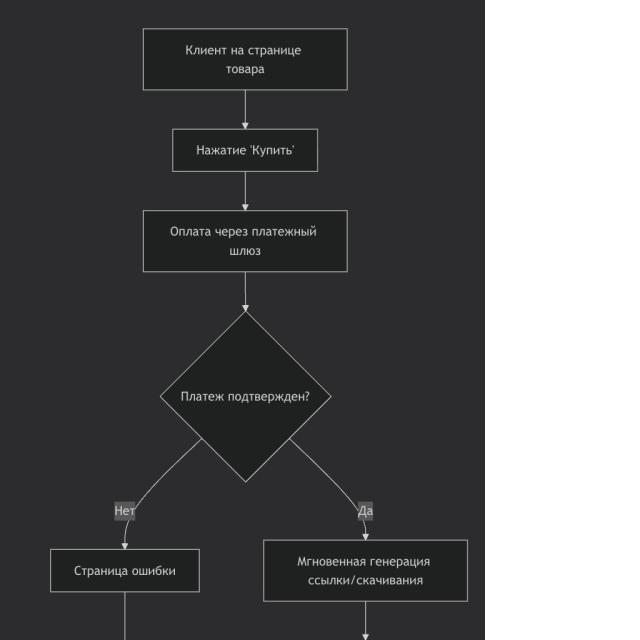arrow: (289, 439, 358, 511), (133, 438, 202, 509), (242, 90, 248, 129), (242, 172, 248, 211), (243, 272, 248, 311), (363, 602, 368, 639)
diamond: (162, 312, 329, 481)
rectangle: (143, 210, 347, 272), (264, 540, 468, 601), (143, 29, 347, 90), (172, 129, 318, 172), (50, 550, 199, 592)
text_region: (350, 502, 388, 522), (109, 504, 143, 518)
